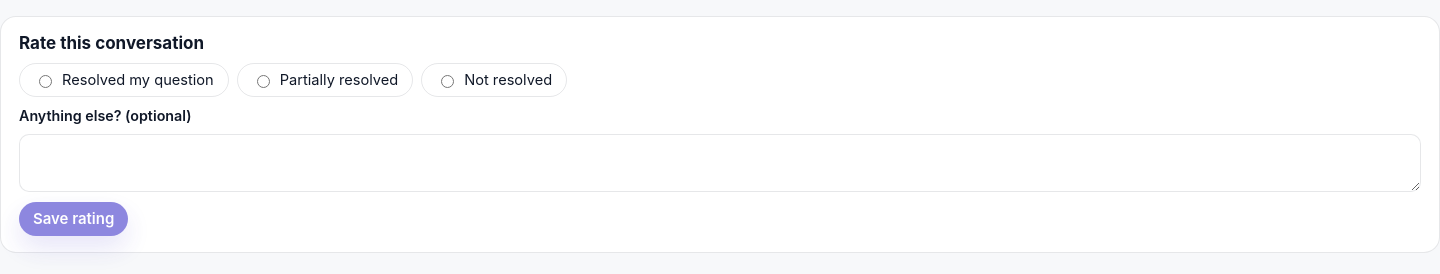
SessionFeedbackControl › saves the selected outcome and comment, and announces the result
Expected: the button "Save rating" is disabled, [19,202,128,236]
Click the radio button labelled "Partially resolved". click: [263, 82]
box: [257,75,270,88]
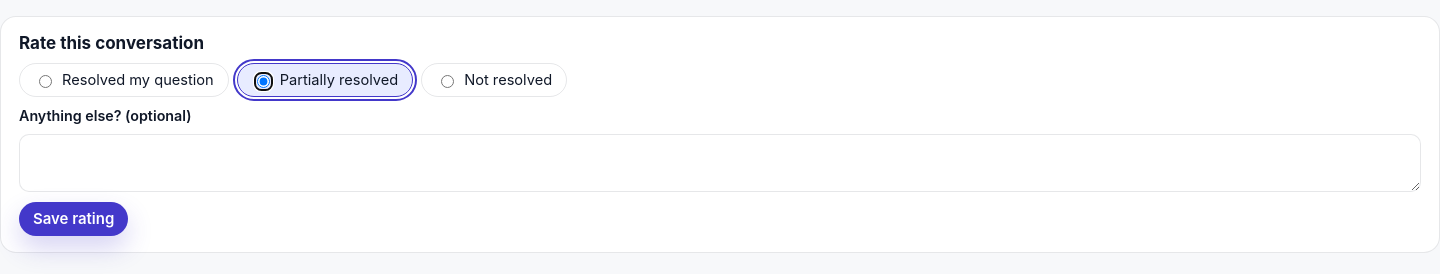
Type "good but slow" into the text box labelled "Anything else? (optional)". click: [720, 163]
box: [19,134,1421,192]
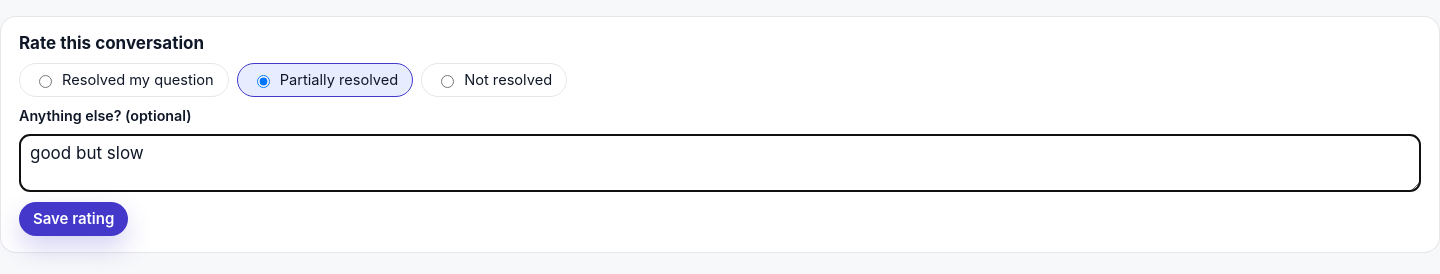
Click the button "Save rating". click: [74, 219]
box: [19,202,128,236]
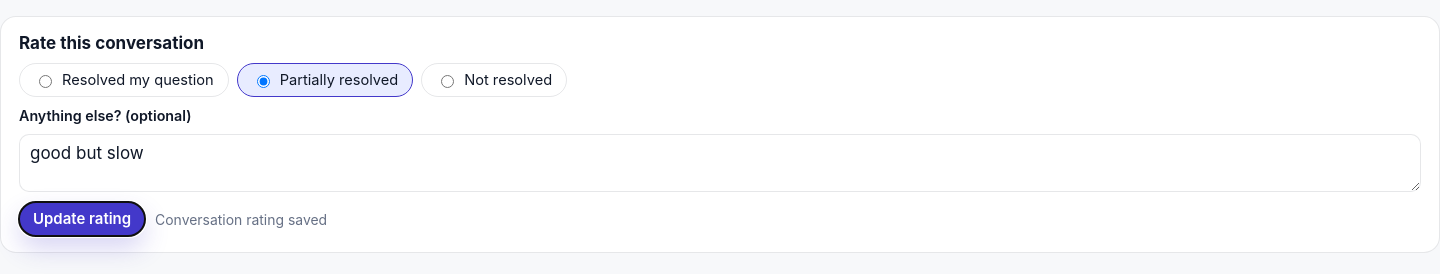
Now the radio button labelled "Partially resolved" is checked, box [257,75,270,88]
Now the message reads "Conversation rating saved", box [155,210,327,228]
Now the button "Update rating" is shown, box [19,202,145,236]
